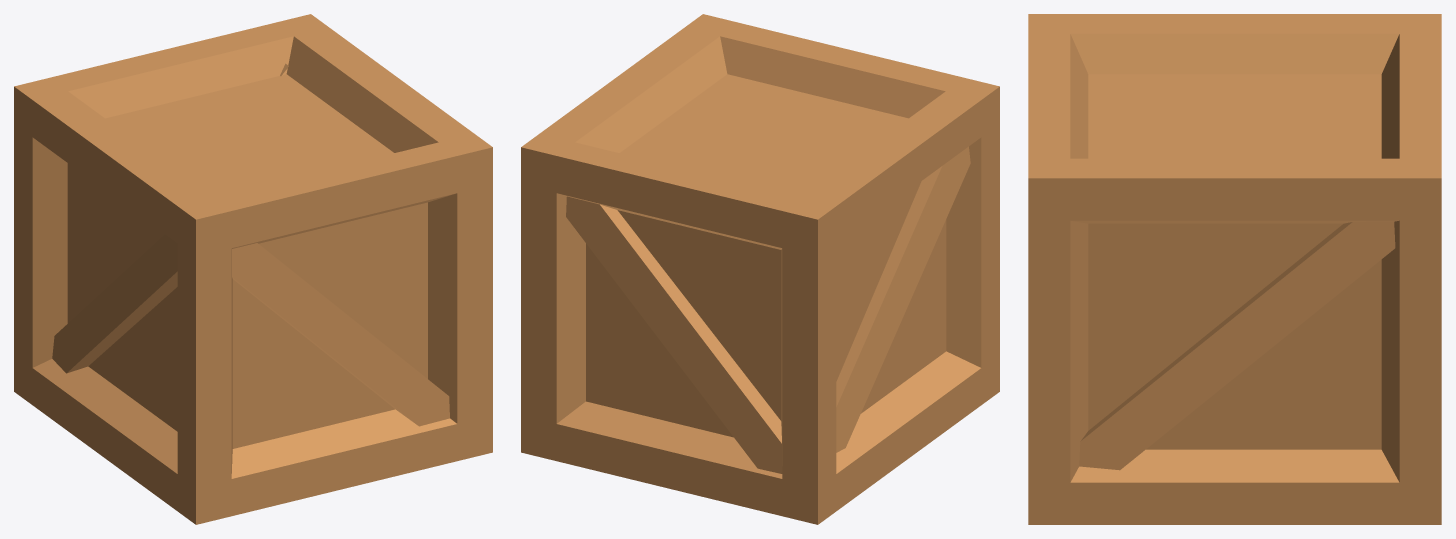
Rendered from wujian05.FBX.
3 views of the same model, side by side, from view 1: azimuth 30°, elevation 25°; view 2: azimuth 150°, elevation 25°; view 3: azimuth 270°, elevation 25° (orthographic). The views are drawn at different scales.
Bounding box in the file's own units: 199 × 196 × 211.
